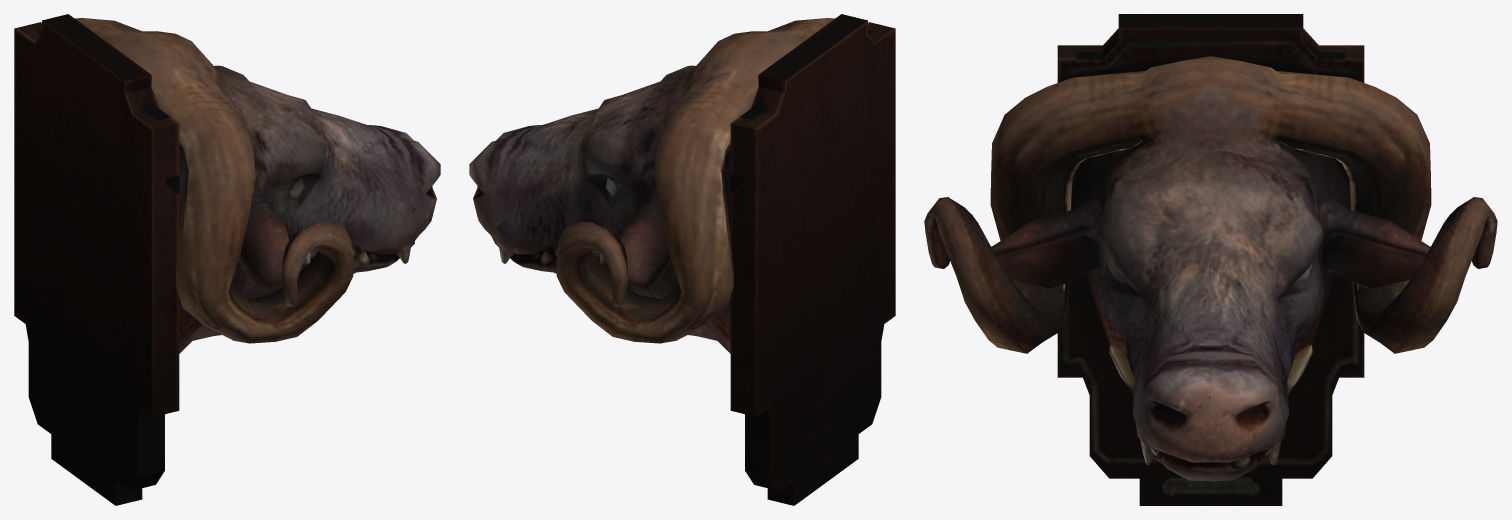
The model's file is Bull_Trophy.obj.
3 renders of one model, left to right at view 1: azimuth 30°, elevation 25°; view 2: azimuth 150°, elevation 25°; view 3: azimuth 270°, elevation 25°, orthographic. The views are drawn at different scales.
Visible parts, largest first — view 1: Bull_Trophy; view 2: Bull_Trophy; view 3: Bull_Trophy.
Boxes of the visible parts, bbox=[...] form: Bull_Trophy: bbox=[14, 14, 440, 505]; Bull_Trophy: bbox=[469, 14, 895, 505]; Bull_Trophy: bbox=[924, 14, 1497, 505].
Bounding box in the file's own units: 101 × 120 × 131.
1 material, 1 textured.
